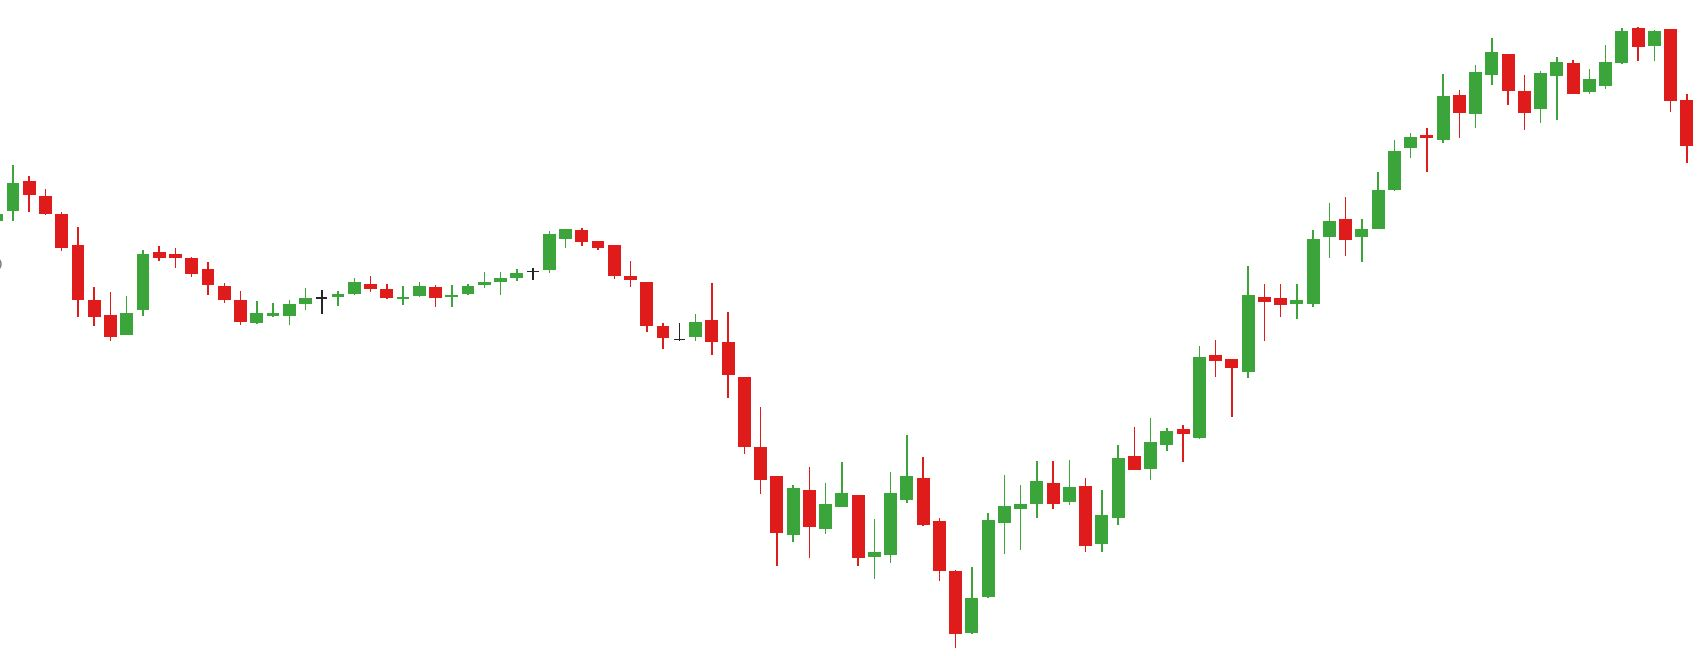buy: (848, 482, 997, 655)
